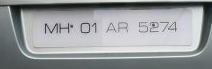0: (80, 21, 91, 35)
1: (90, 22, 98, 35)
2: (149, 21, 159, 33)
4: (168, 20, 179, 33)
5: (137, 20, 148, 34)
7: (159, 19, 169, 33)
A: (105, 20, 116, 35)
H: (58, 21, 70, 35)
M: (43, 21, 59, 35)
R: (116, 20, 130, 35)
